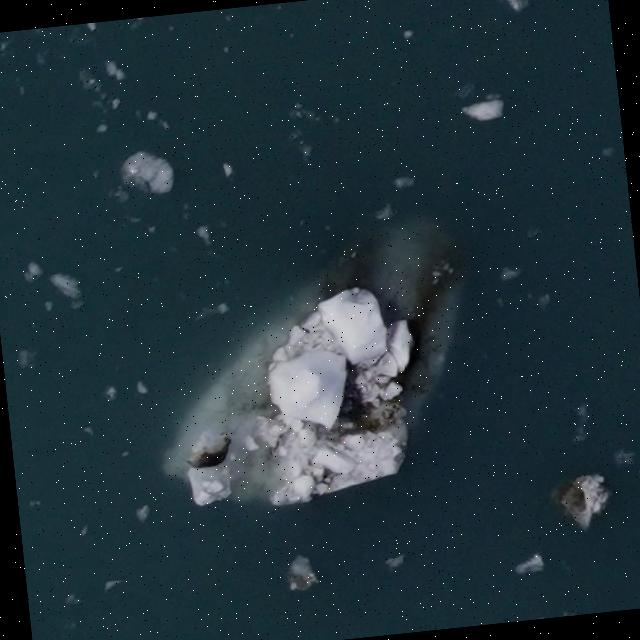seal: (183, 431, 241, 482)
